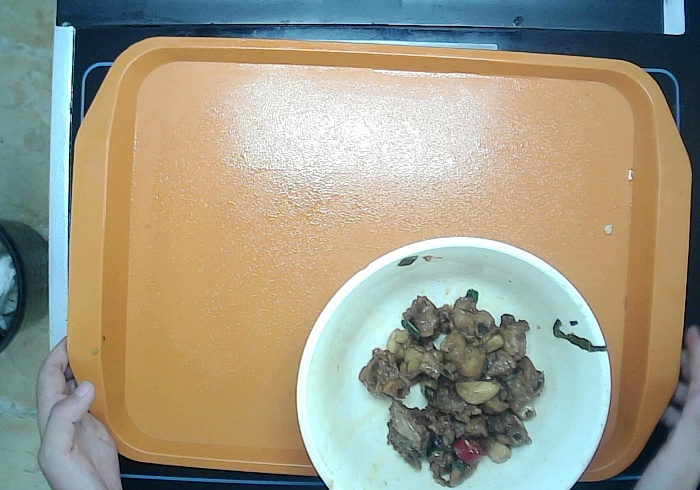ZNLD-Da_Tang_Wan: (292, 233, 618, 490)
